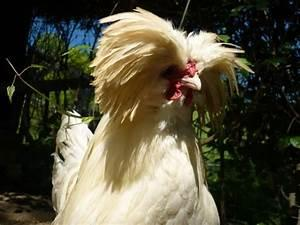hen: (48, 6, 254, 224)
